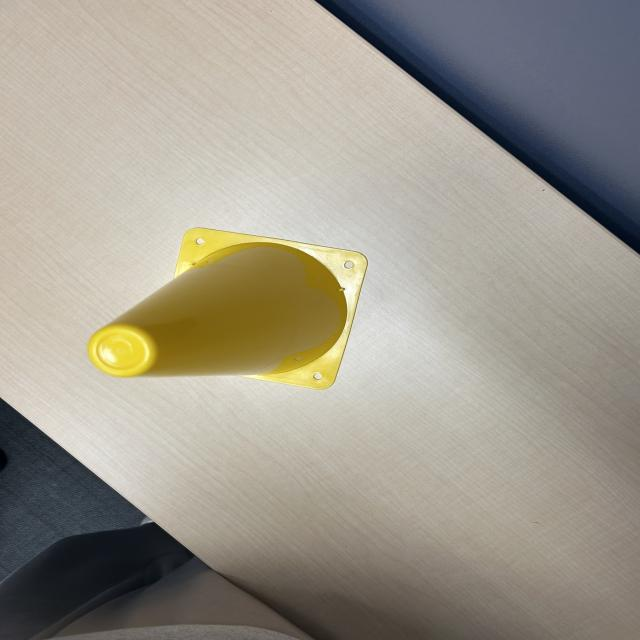yellow cone: (86, 218, 372, 398)
